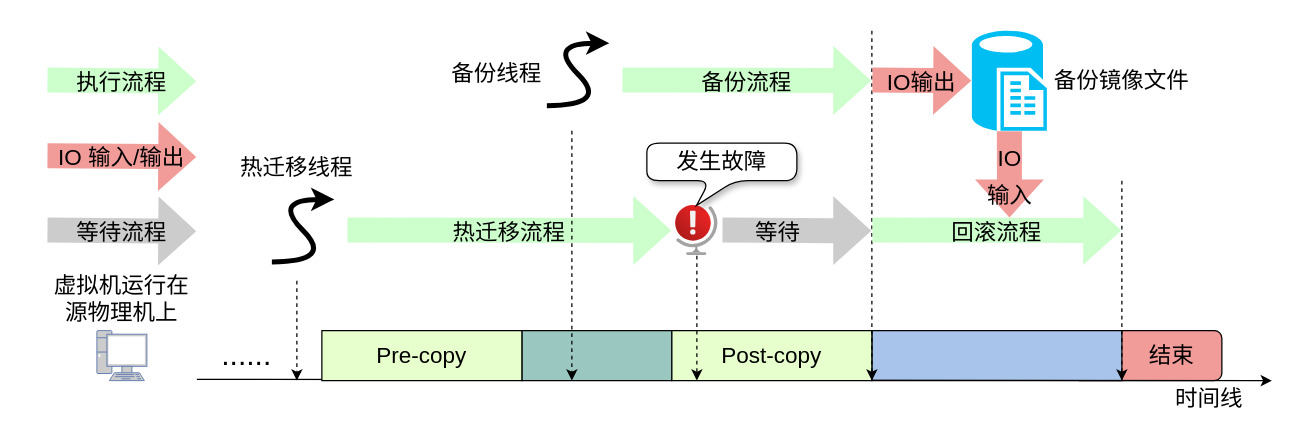
This 1304x440 diagram has some shape labels left out. Here are the shapes that lost their labels. From the top down, the centre of each, then its label:
point (596, 355): 停机
point (996, 355): 回滚
